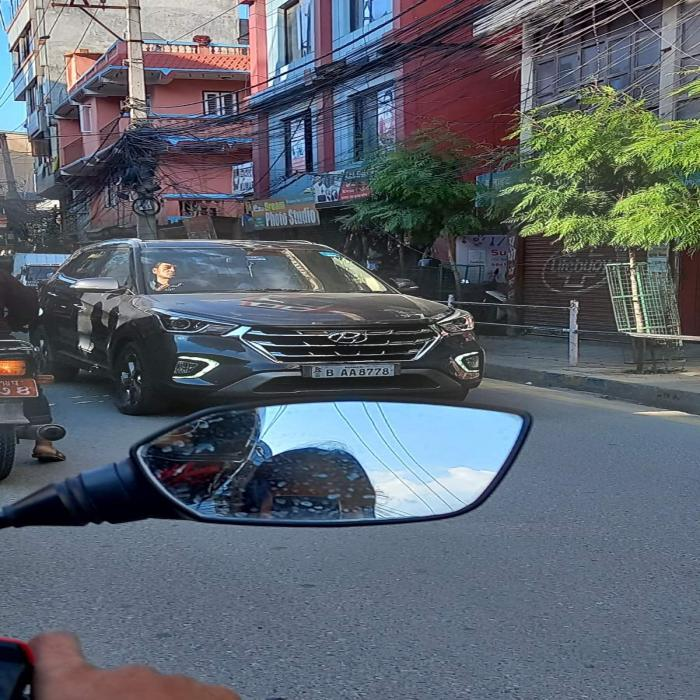number_plate: (311, 365, 393, 377)
